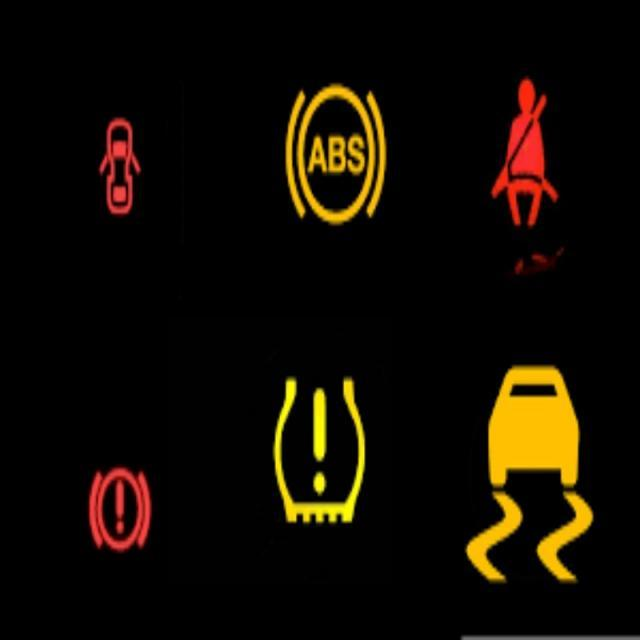ABS: (284, 82, 386, 223)
HandBrakeWarning: (86, 464, 150, 552)
SeatBeltWarning: (490, 76, 558, 226)
TractionControl: (464, 363, 594, 584)
TyrePressureLow: (270, 372, 366, 524)
